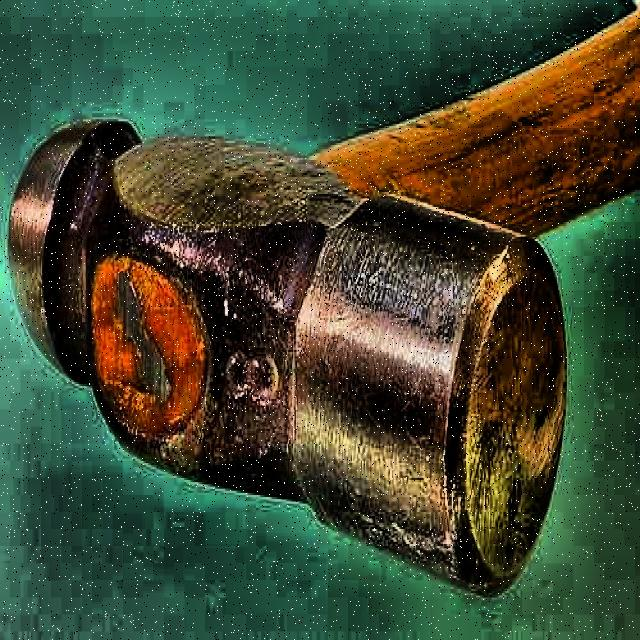hammer: (6, 8, 640, 604)
